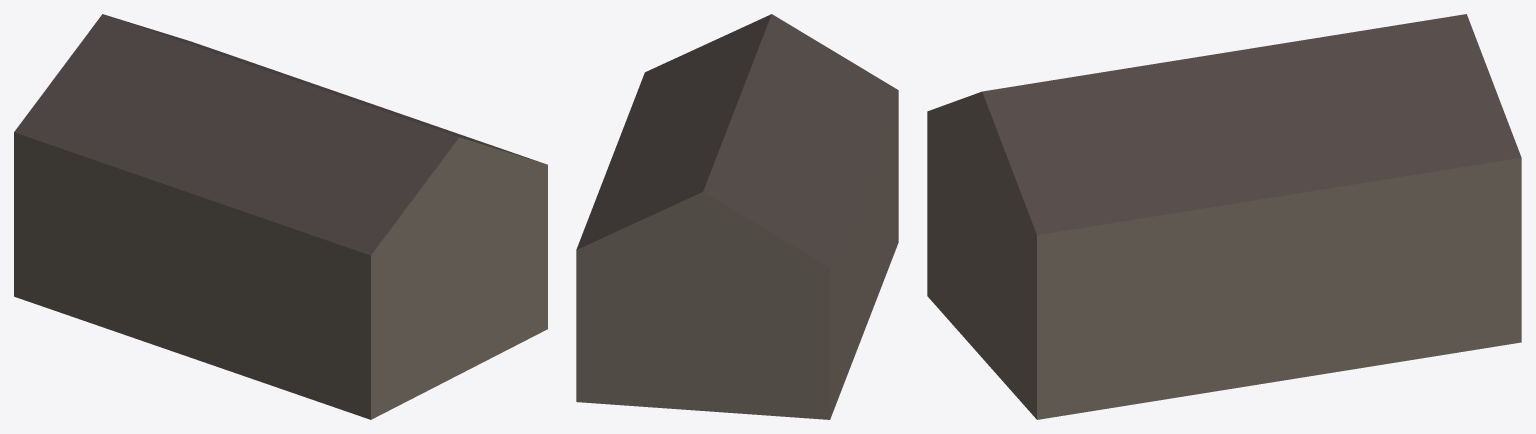
3 renders of one model, left to right at view 1: azimuth 30°, elevation 25°; view 2: azimuth 150°, elevation 25°; view 3: azimuth 270°, elevation 25°, orthographic. The views are drawn at different scales.
Parts seen in each view (by area): view 1: HP-w369317464; view 2: HP-w369317464; view 3: HP-w369317464.
Boxes of the visible parts, bbox=[...] form: HP-w369317464: bbox=[14, 14, 547, 419]; HP-w369317464: bbox=[576, 14, 898, 419]; HP-w369317464: bbox=[927, 14, 1521, 419].
Size of the model in its own units: 21.04 by 12.99 by 26.24.
